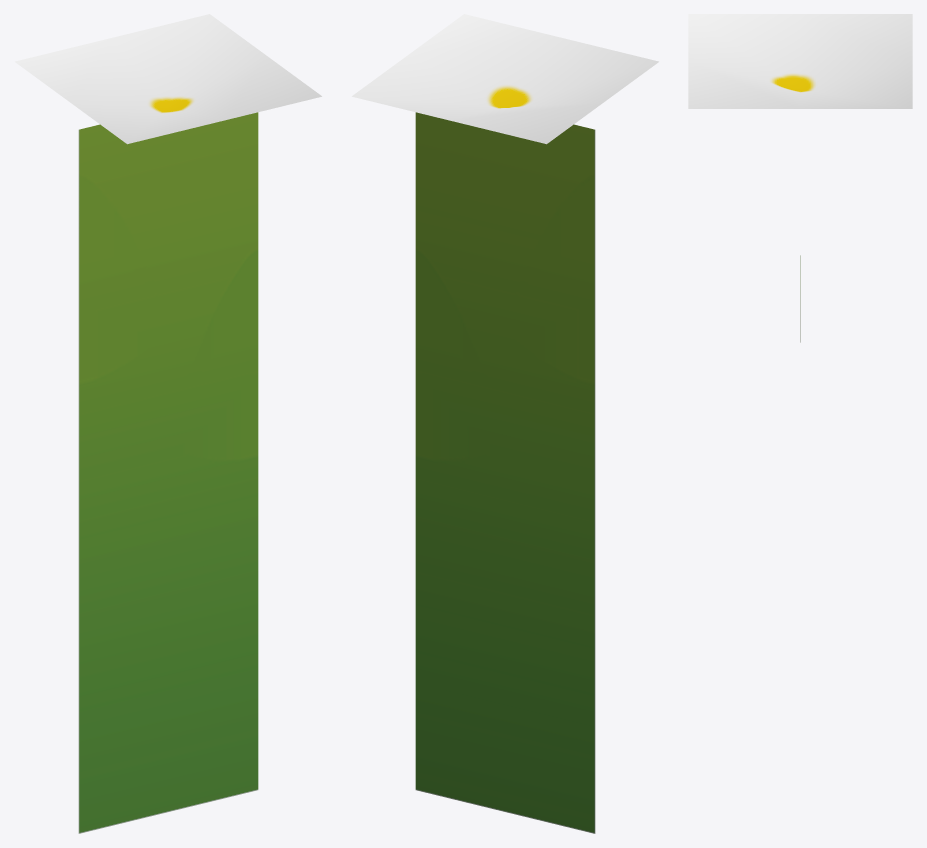
The model's file is Flower_01.glb.
3 renders of one model, left to right at view 1: azimuth 30°, elevation 25°; view 2: azimuth 150°, elevation 25°; view 3: azimuth 270°, elevation 25°, orthographic.
Parts seen in each view (by area): view 1: Flower_01_LOD0; view 2: Flower_01_LOD0; view 3: Flower_01_LOD0.
Part boxes in pixels (x1=…): Flower_01_LOD0: x1=15, y1=14, x2=321, y2=833; Flower_01_LOD0: x1=352, y1=14, x2=658, y2=833; Flower_01_LOD0: x1=688, y1=14, x2=912, y2=342.
Size of what is drawn, in the model's own units: 0.1049 by 0.376 by 0.1049.
1 material, 1 textured.
